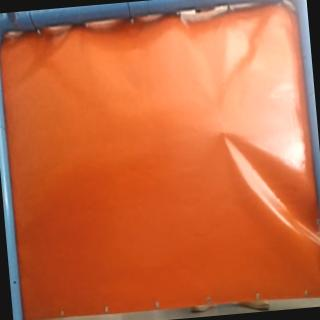Hit-hRxx: (212, 125, 234, 141)
